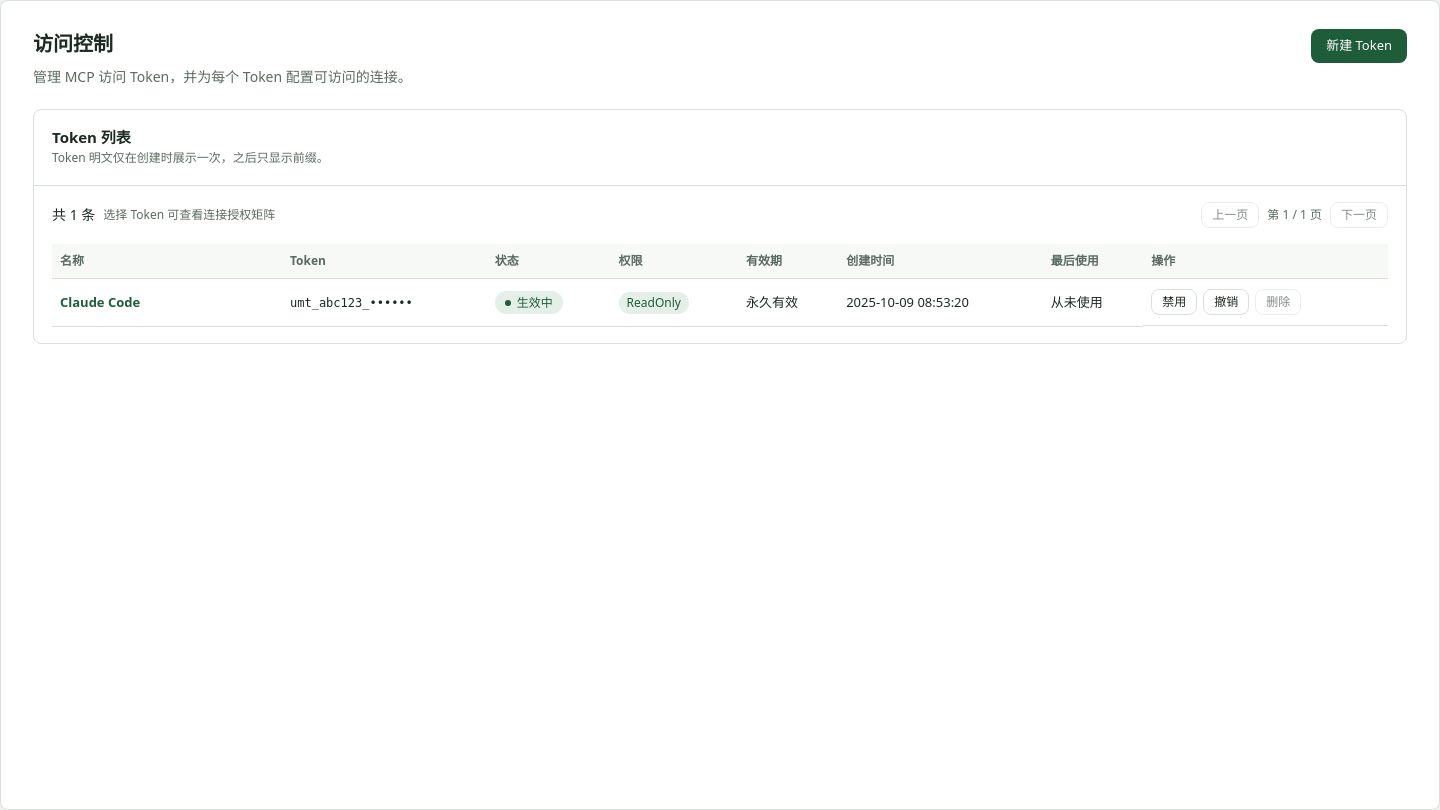
Test case: 访问控制页 - 状态操作 › 撤销前二次确认并提示会终止活动会话
Click the button with aria-label "撤销 Claude Code". click: [1226, 302]
box: [1203, 289, 1249, 316]
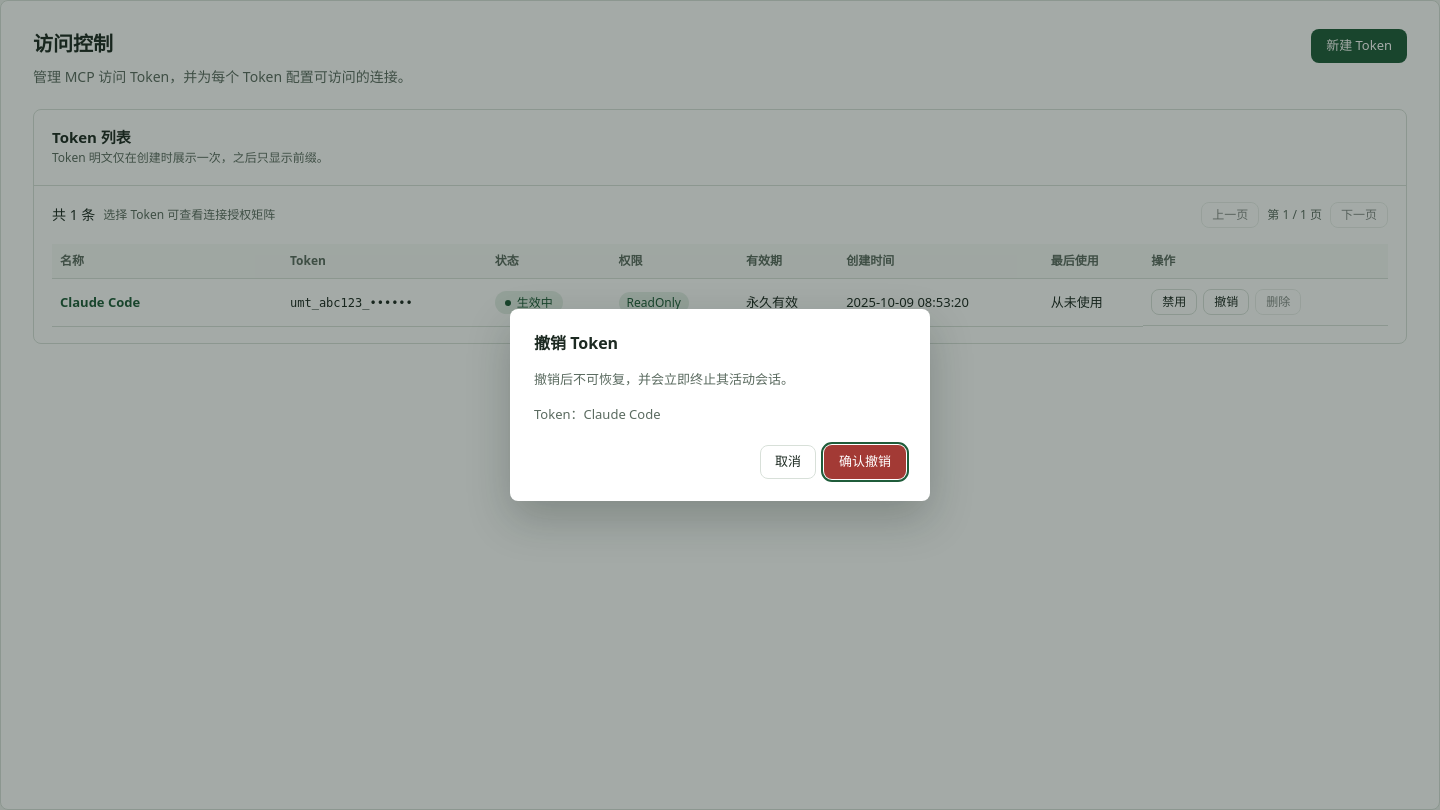
Result: the text "撤销后不可恢复，并会立即终止其活动会话。" is shown at [534, 370, 794, 388]
Click the button "确认撤销". click: [865, 462]
box: [824, 445, 906, 479]
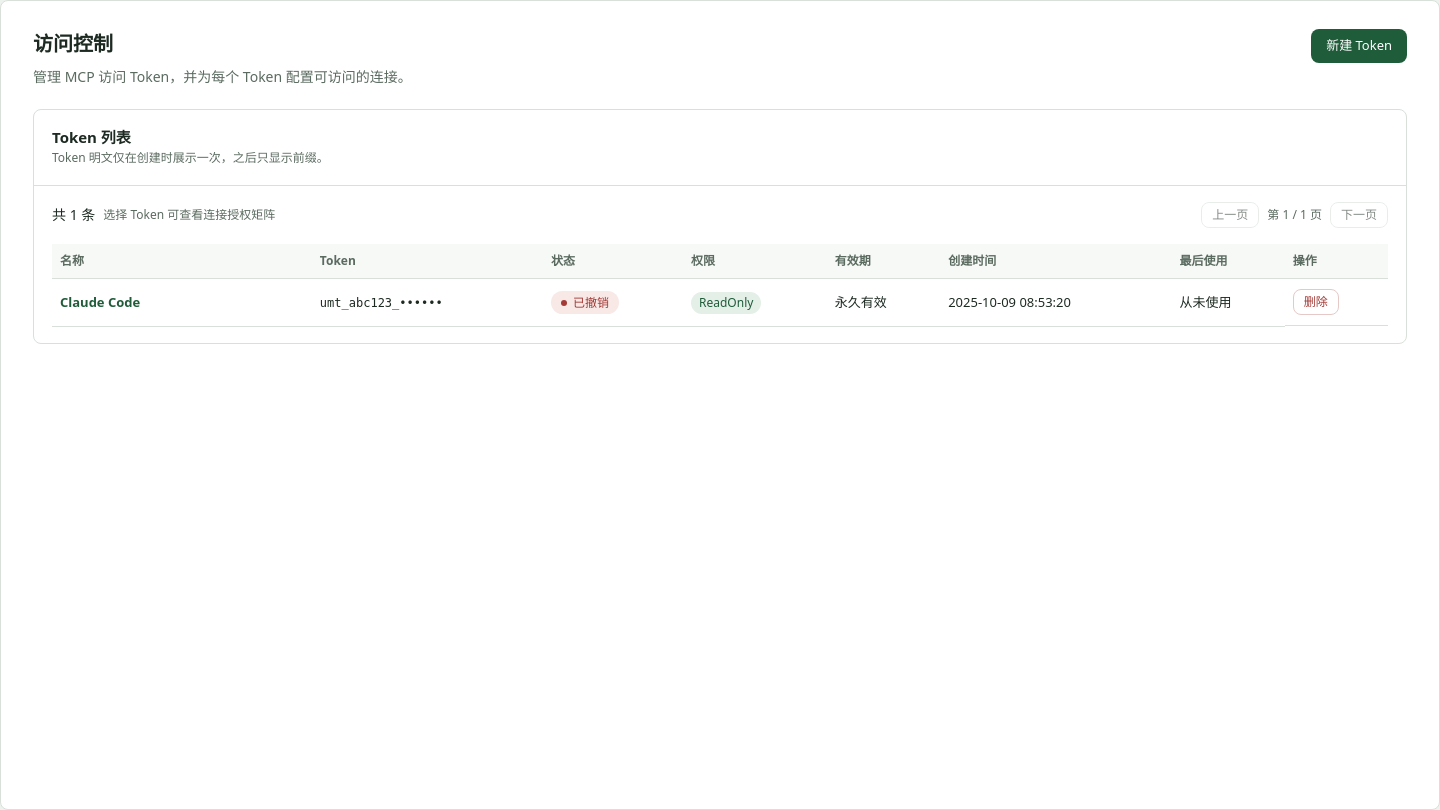
Result: the heading "撤销 Token" is gone
Result: the text "已撤销" is shown at [551, 291, 619, 314]
